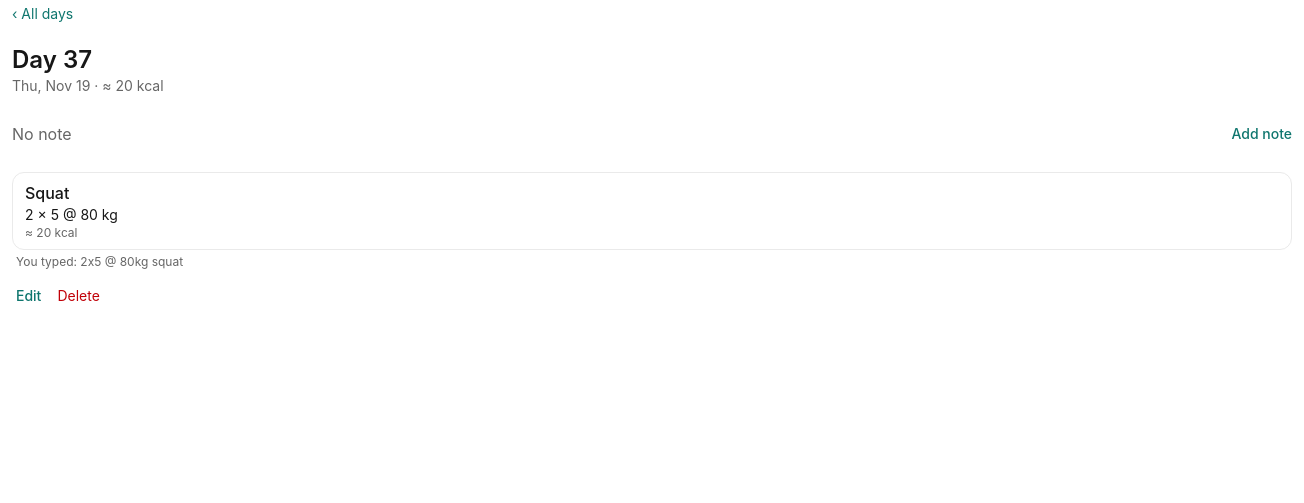
Test case: Day › points at bad input instead of sending it
Click the button "Edit": (29, 296) [12, 274, 45, 318]
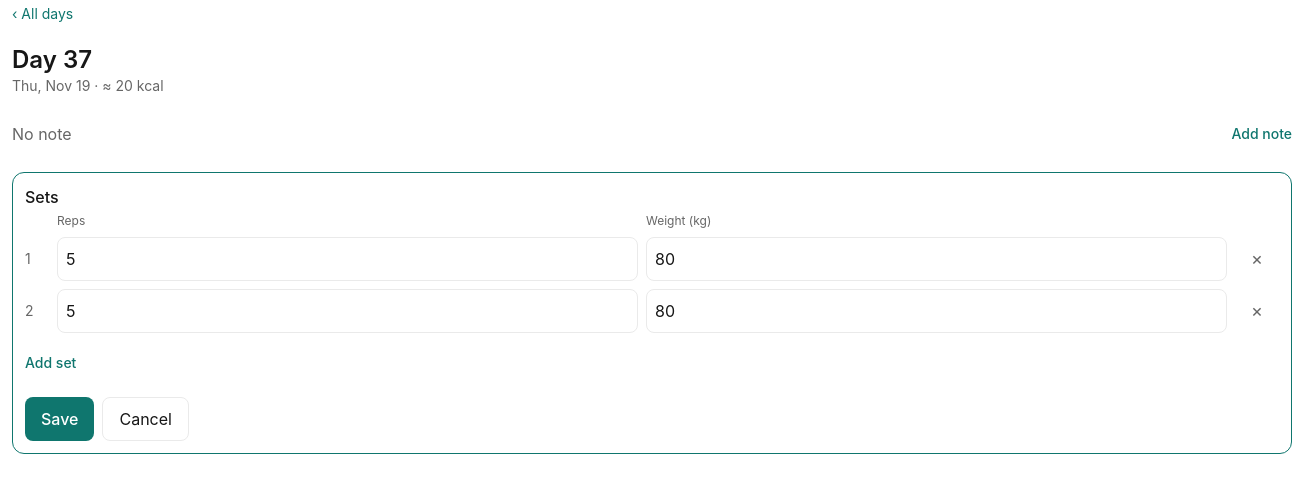
Replace the text in the field named "Reps, set 2" with "2.5": (348, 311) [57, 289, 638, 333]
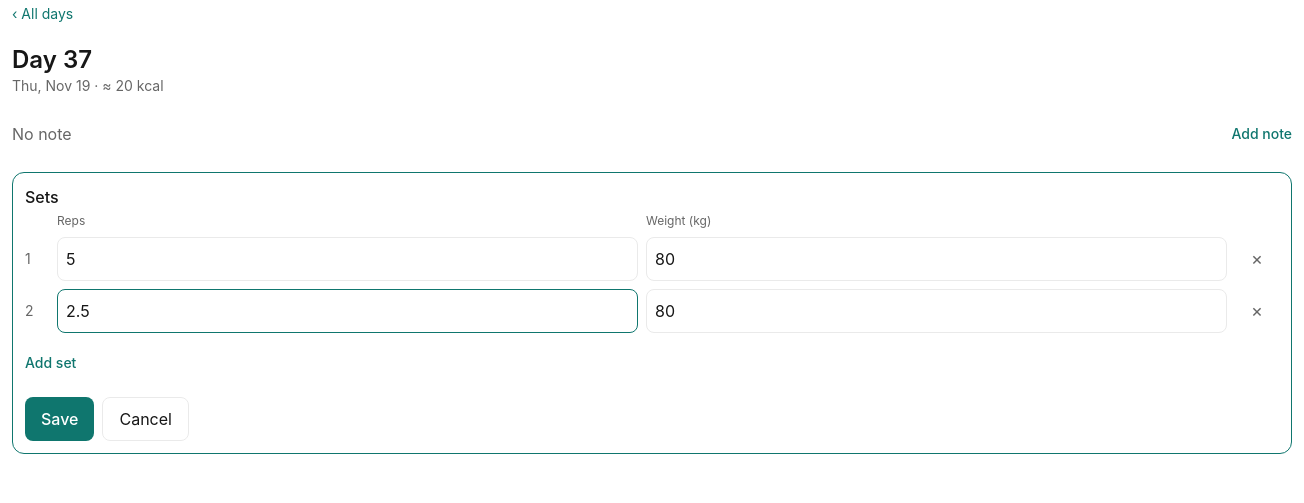
Click the button "Save": (60, 419) [25, 397, 94, 441]
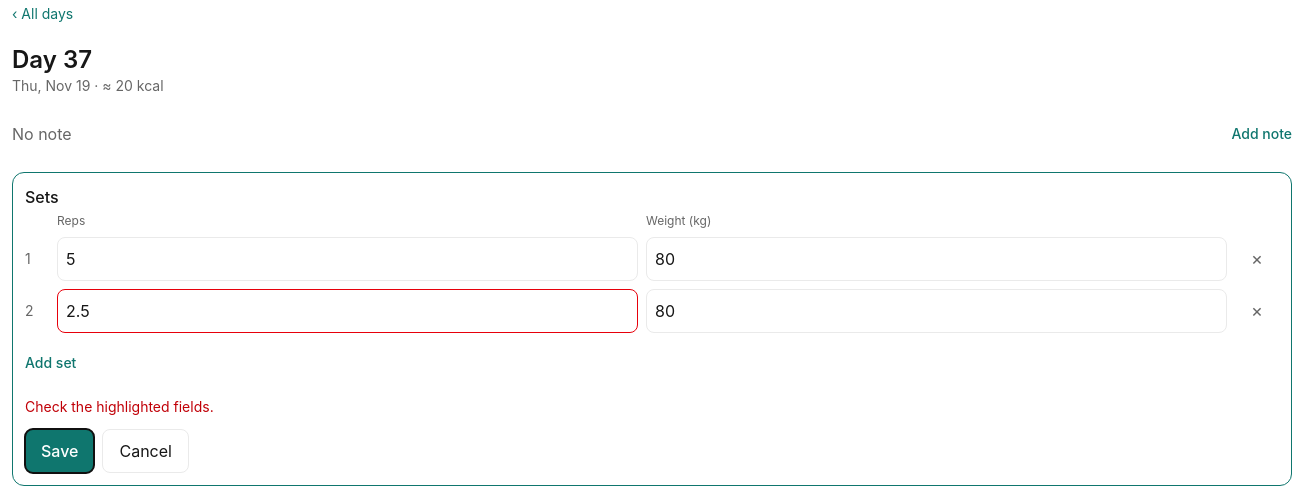
expect the message reads "Check the highlighted fields.": met, box [25, 398, 214, 415]
